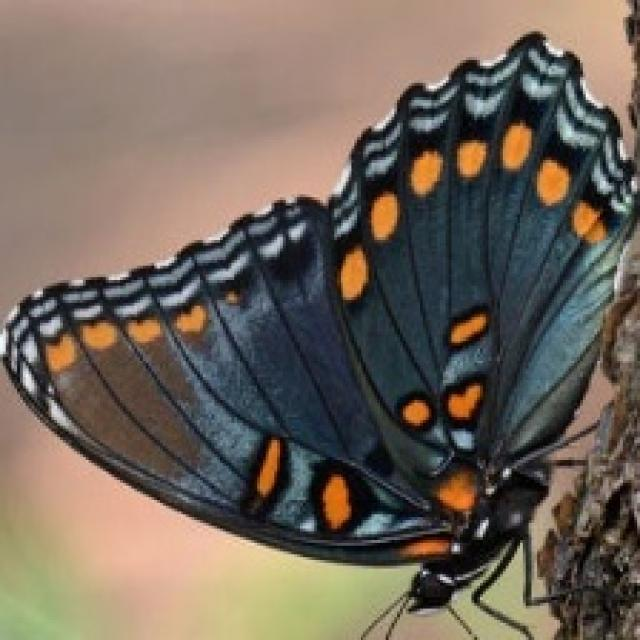butterfly: (0, 26, 637, 637)
